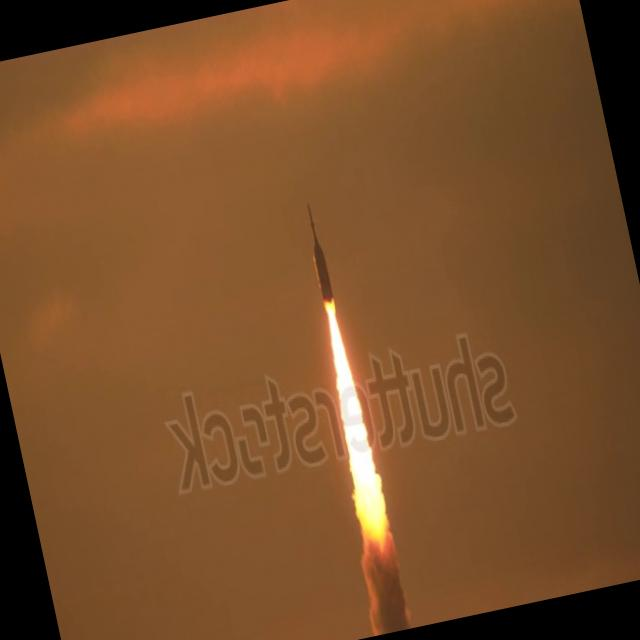rocket: (296, 197, 379, 485)
